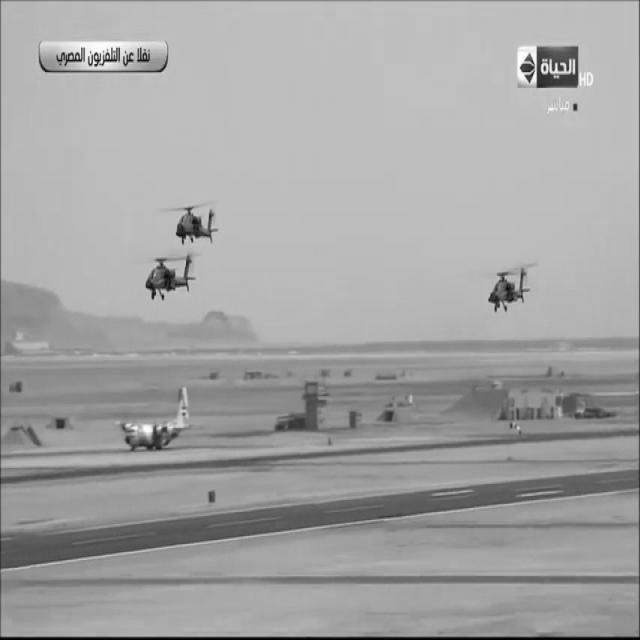helikopter: (480, 250, 544, 324), (140, 249, 203, 316), (164, 184, 230, 247)
